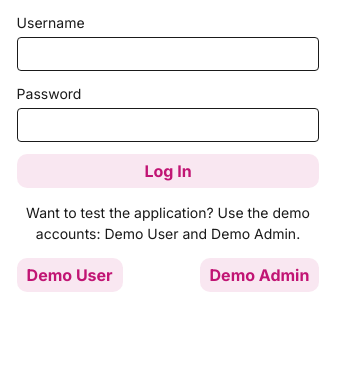
Test: Login Component › shows errors on submit if fields are empty
Click the button "Log In" at coordinates (168, 171), box top-left (17, 154), bottom-right (319, 188)
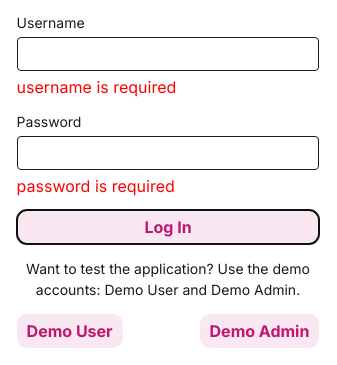
Result: the text "username is required" is shown at top-left (17, 77), bottom-right (176, 97)
Result: the text "password is required" is shown at top-left (17, 176), bottom-right (175, 196)
